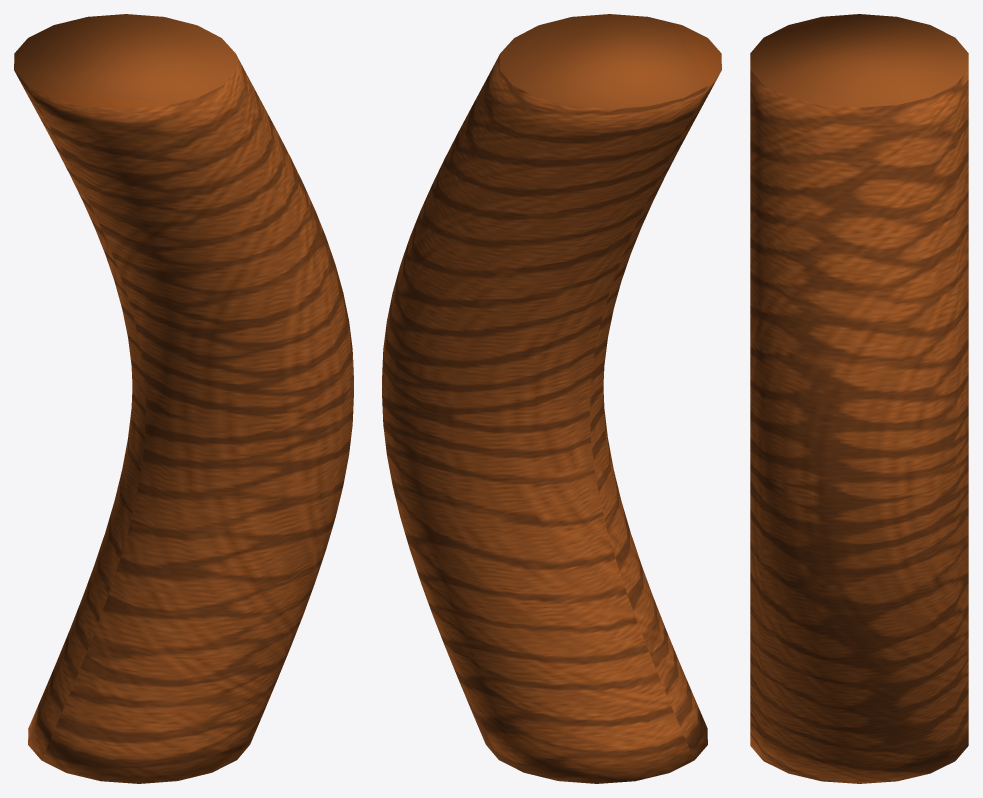
File: Effect_Rope.FBX
3 renders of one model, left to right at view 1: azimuth 30°, elevation 25°; view 2: azimuth 150°, elevation 25°; view 3: azimuth 270°, elevation 25°, orthographic.
Parts seen in each view (by area): view 1: Cylinder001; view 2: Cylinder001; view 3: Cylinder001.
Part boxes in pixels (box(x1,y1,x2,y2)): Cylinder001: box(14, 14, 353, 783); Cylinder001: box(382, 14, 721, 783); Cylinder001: box(750, 14, 968, 783).
Bounding box in the file's own units: 4.83 × 10 × 2.95.
